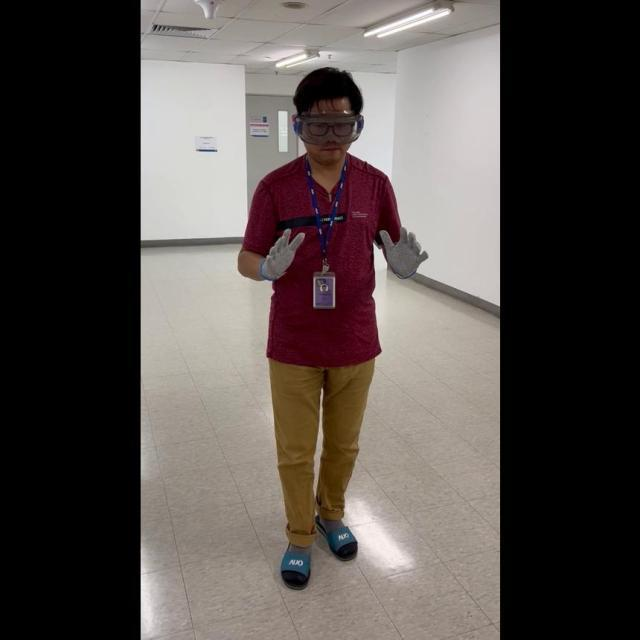gloved_hand: (257, 224, 306, 283), (377, 223, 426, 281)
